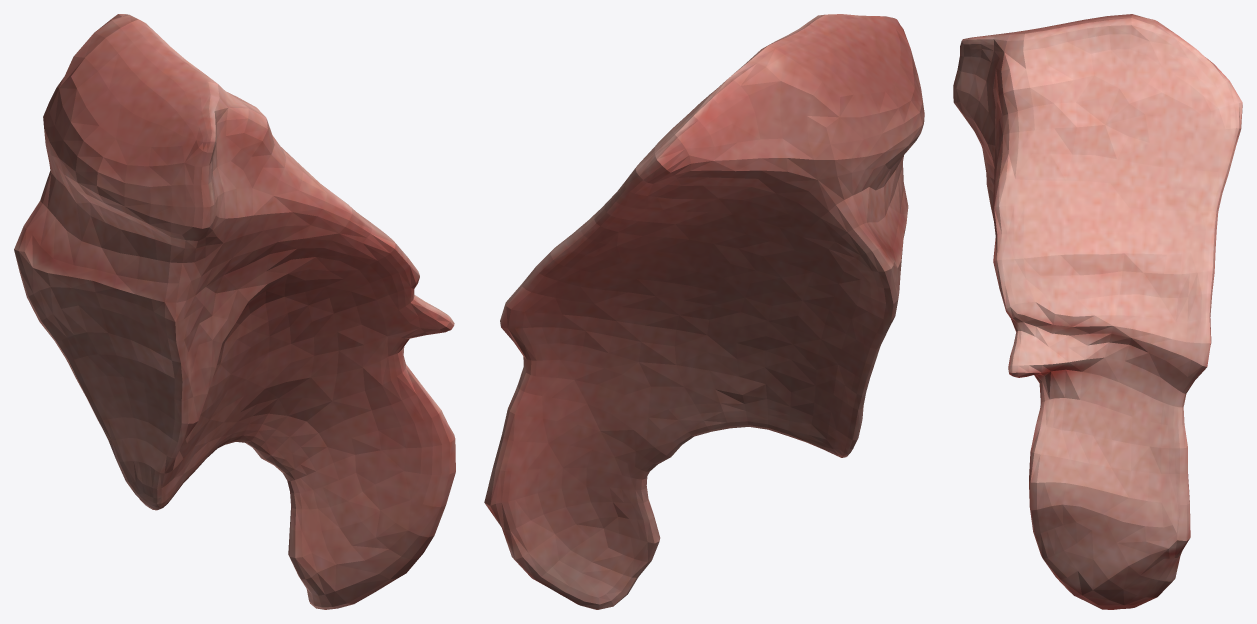
The model's file is R_lung_accessory_lobe_LOW.glb.
3 renders of one model, left to right at view 1: azimuth 30°, elevation 25°; view 2: azimuth 150°, elevation 25°; view 3: azimuth 270°, elevation 25°, orthographic. The views are drawn at different scales.
Parts seen in each view (by area): view 1: R_lung_accessory_lobe_LOW; view 2: R_lung_accessory_lobe_LOW; view 3: R_lung_accessory_lobe_LOW.
Boxes of the visible parts, <box> form: R_lung_accessory_lobe_LOW: <box>14,14,455,609</box>; R_lung_accessory_lobe_LOW: <box>484,14,924,609</box>; R_lung_accessory_lobe_LOW: <box>953,14,1242,609</box>.
Size of the model in its own units: 0.0021 by 0.00324 by 0.00165.
1 material, 1 textured.
